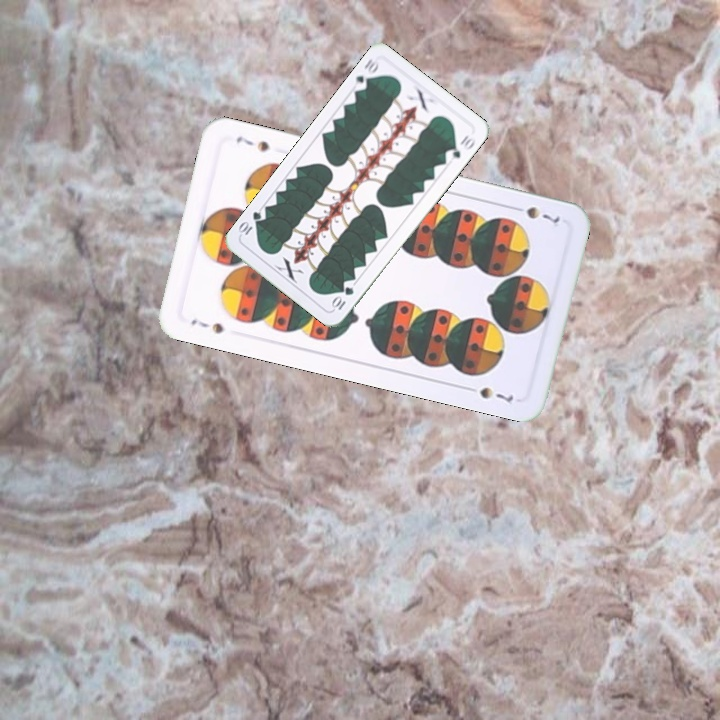G10: (349, 55, 381, 93), (328, 282, 357, 313)
S7: (507, 202, 563, 226), (187, 315, 227, 336)
